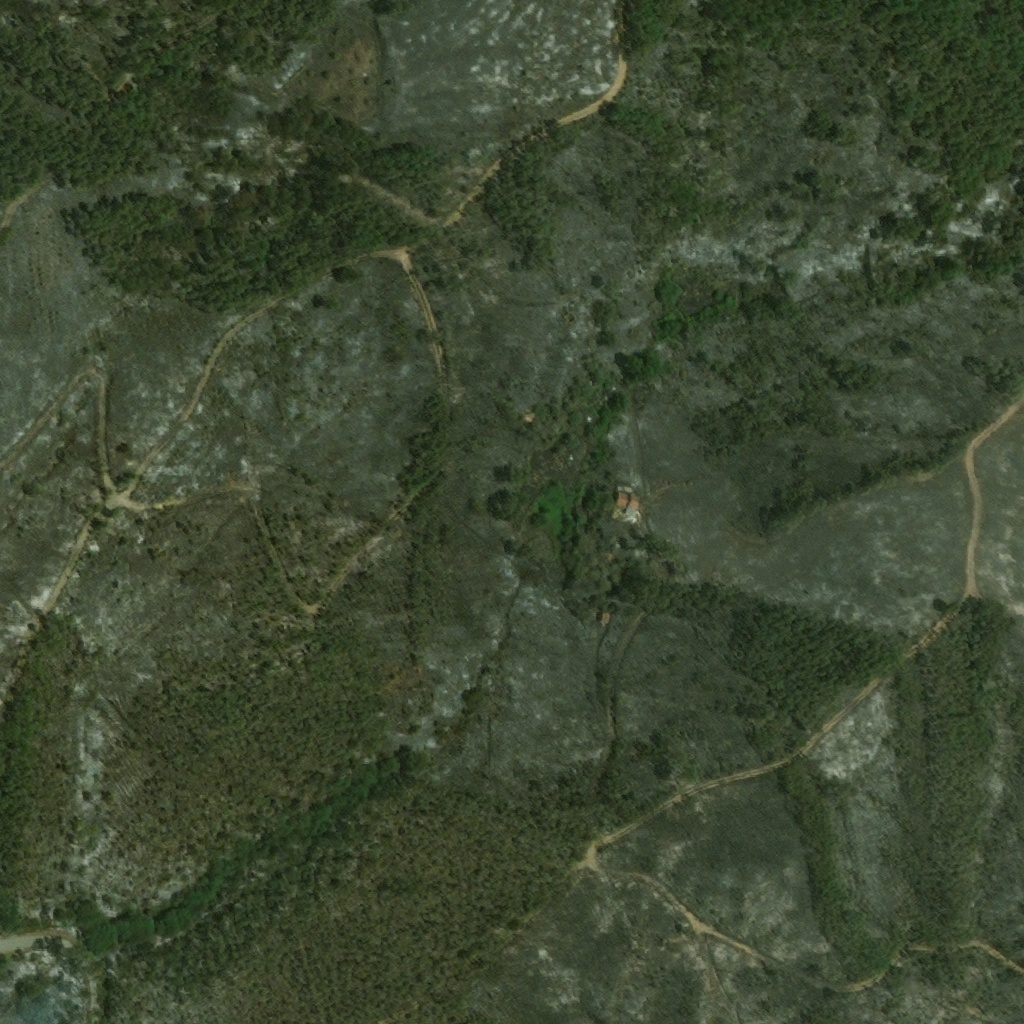0 no-damage: (616, 493, 639, 511), (526, 411, 537, 422)
